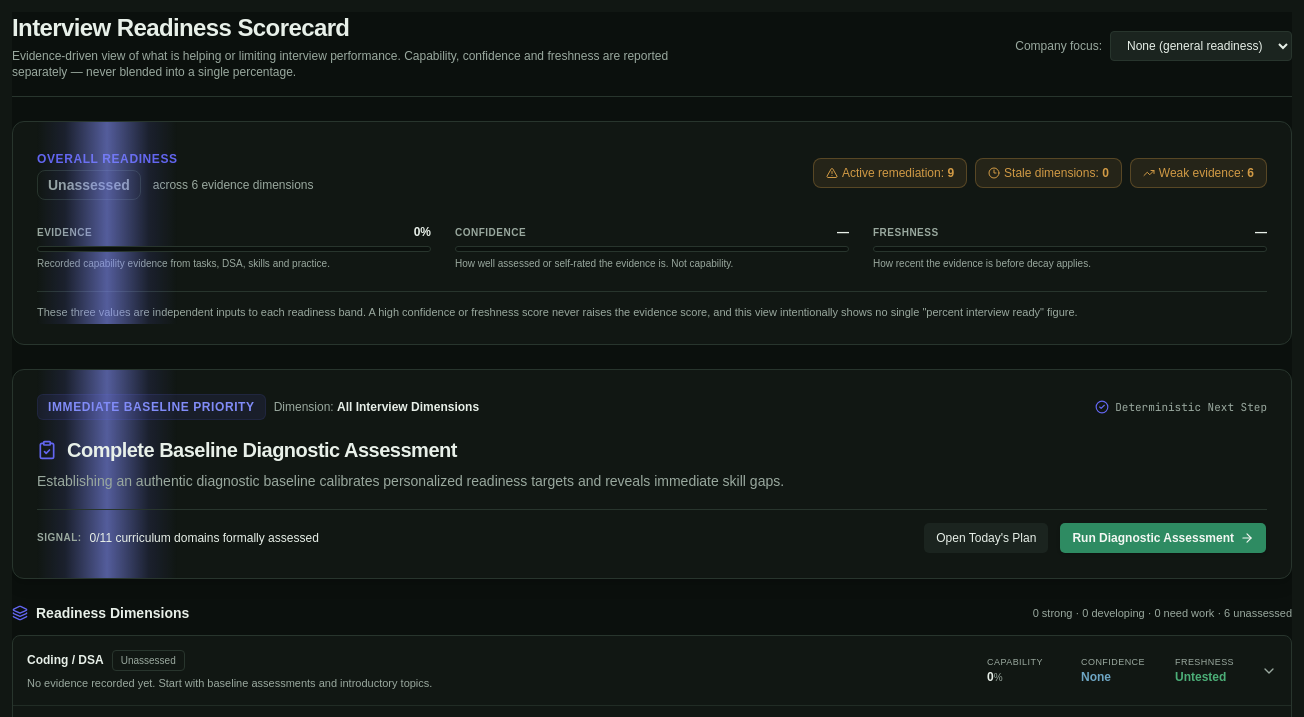
Scenario: Interview Manufacturing Parts 3–5 Verification › 1. Zone 3 — Six-Vector Readiness Dimension Matrix › expands dimension card on click to reveal detailed meters and EvidenceTracePanel
Click the button with test id "dimension-toggle-coding_dsa" at (65,660), box [13,636,1291,705]
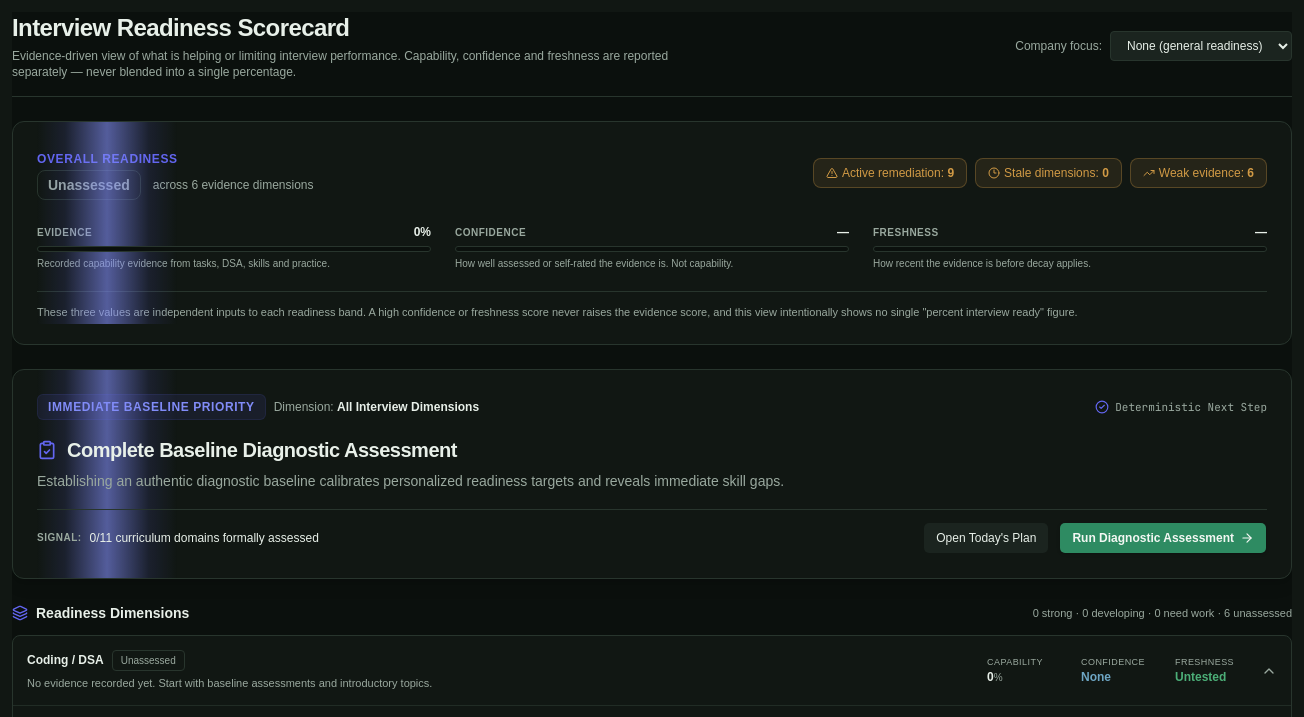
Check: the button with test id "dimension-toggle-coding_dsa" is expanded
Click the button with test id "dimension-toggle-coding_dsa" at (65,660), box [13,636,1291,705]
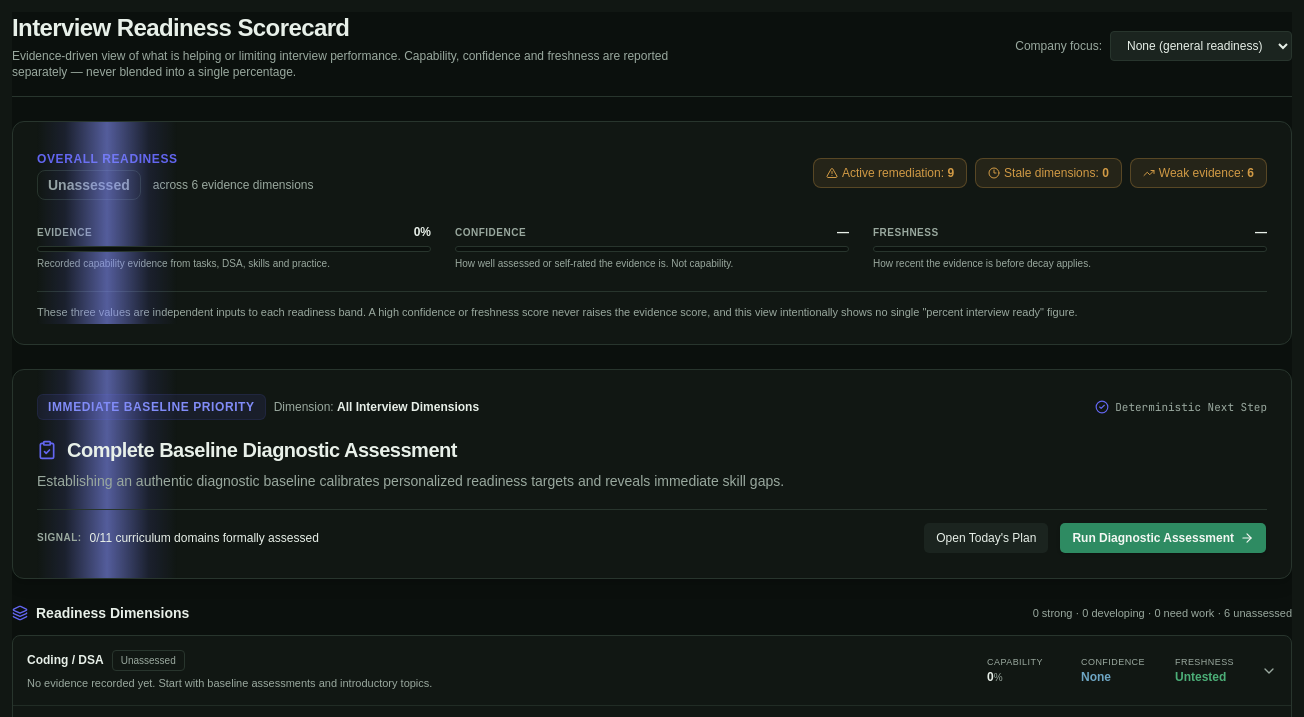
Check: the button with test id "dimension-toggle-coding_dsa" is collapsed, box [13,636,1291,705]
